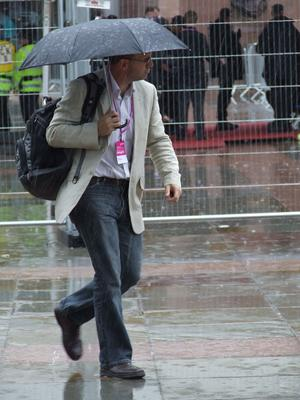person: (45, 51, 182, 378)
